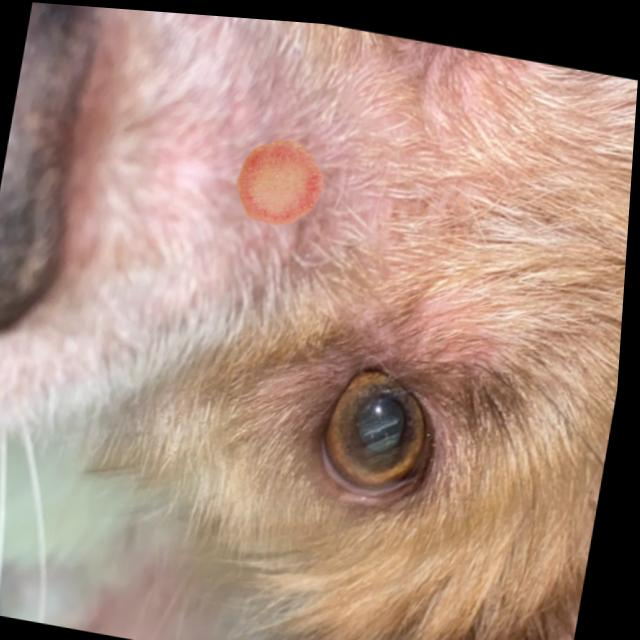ringworm: (205, 120, 346, 238)
